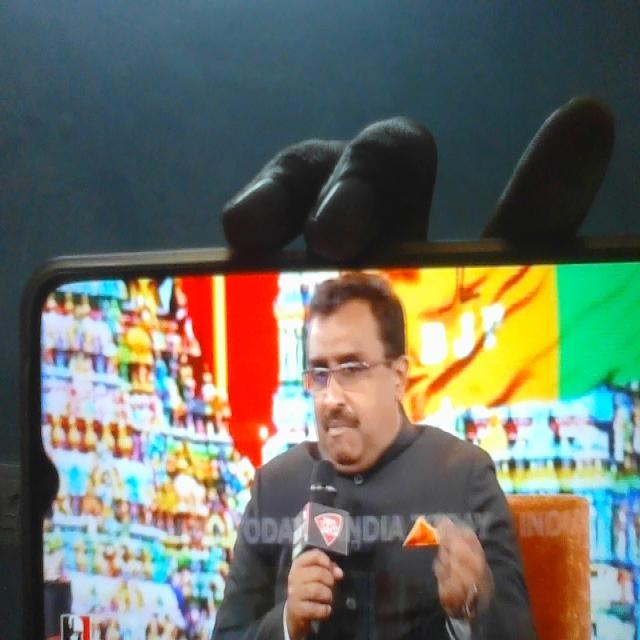fake: (284, 236, 419, 492)
